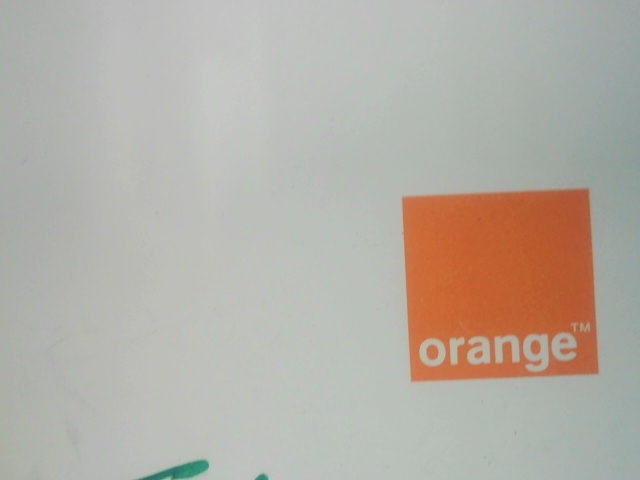AR_Orange: (394, 182, 605, 382)
